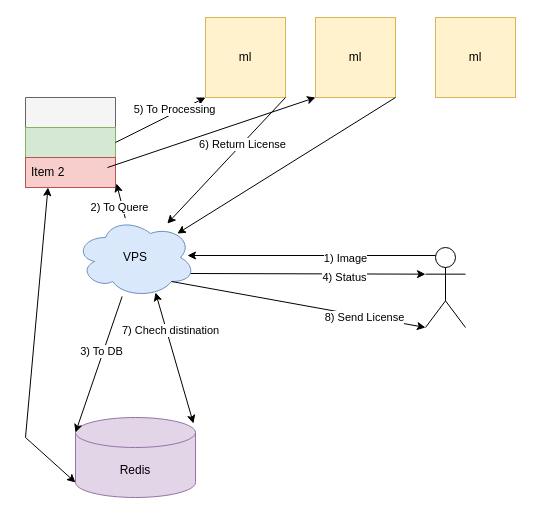
Image size: 533x515. Some labels were removed from this diagram. The box of each missing label's shape, as (x1, y1, x2, y2) in pixels:
Item 1: (24, 126, 116, 158)
Quere: (24, 96, 116, 188)
User: (424, 246, 466, 328)
